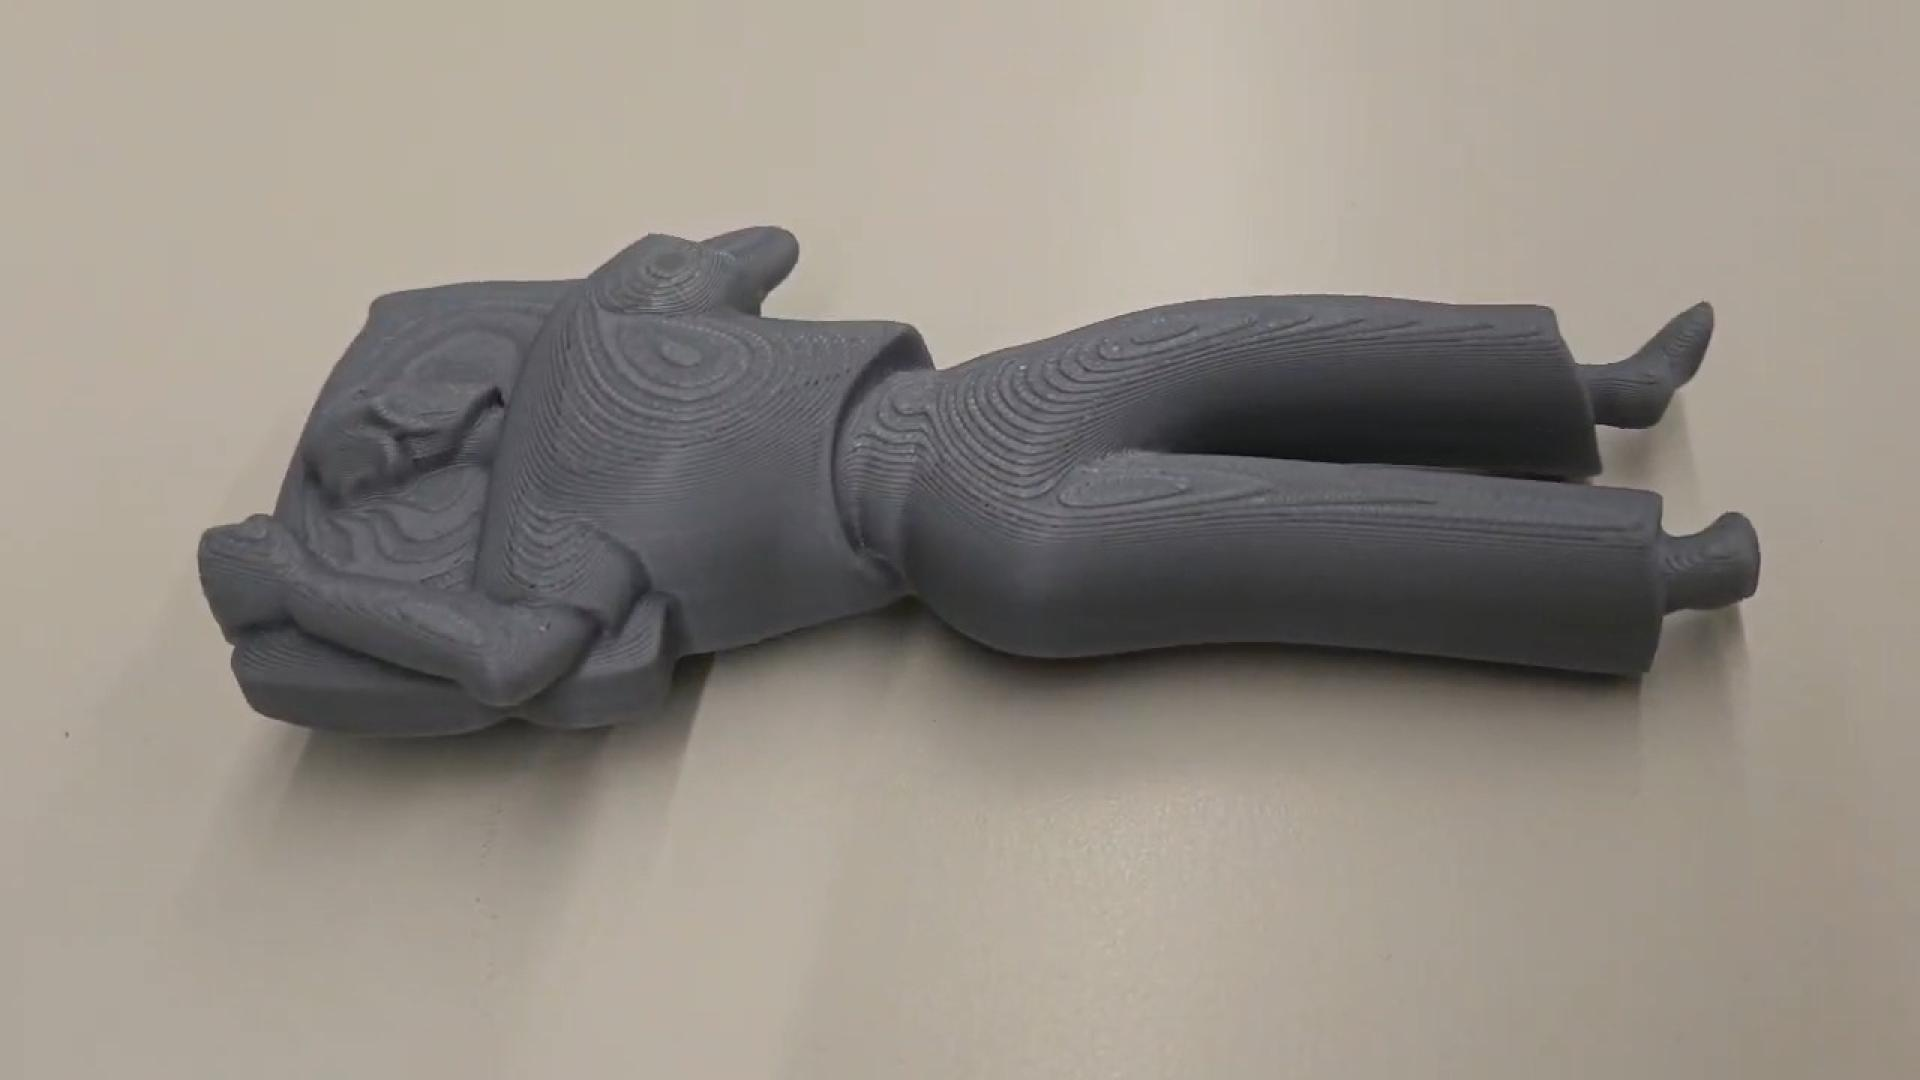Bad-style: (193, 225, 1763, 762)
